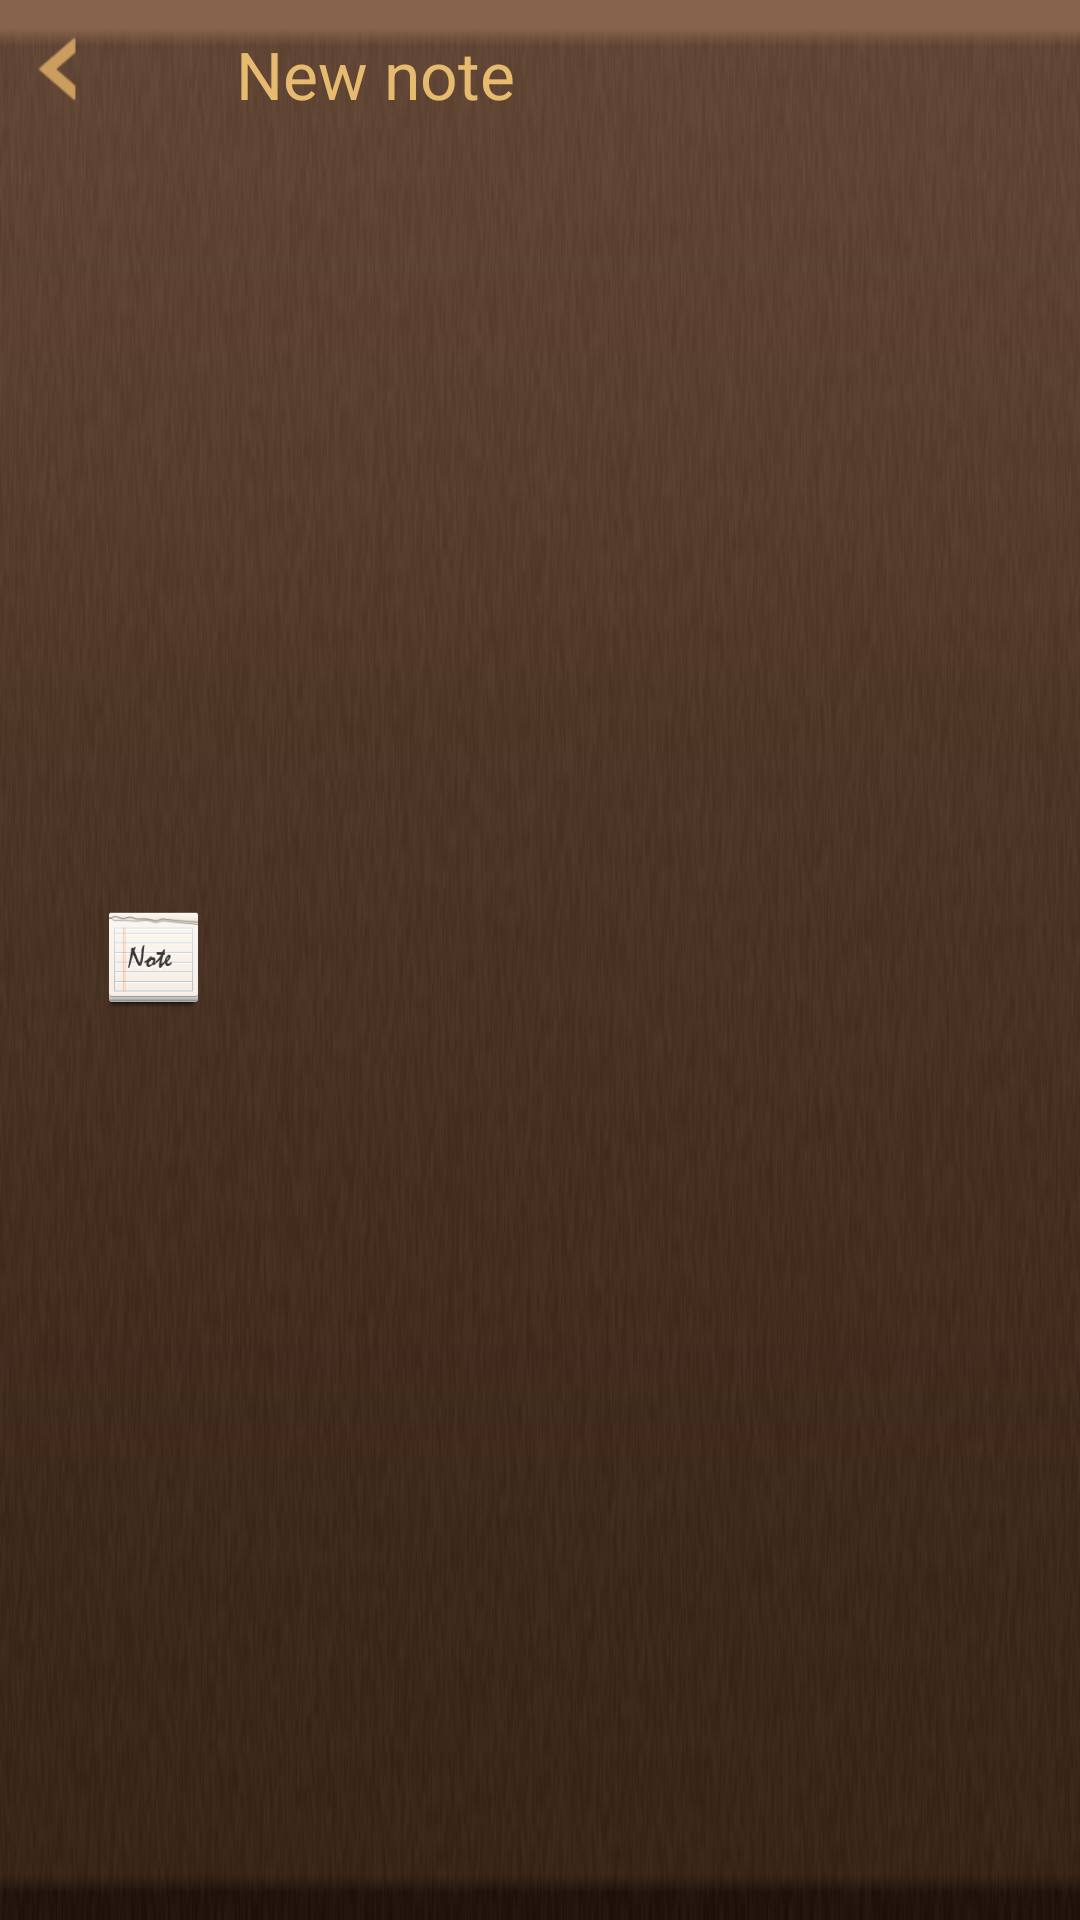

Icon bounding boxes for this 1080*1920 phone screenshot, format (left=x1, top=y1, right=x2, bottom=y2):
Back: (left=15, top=15, right=101, bottom=100)
